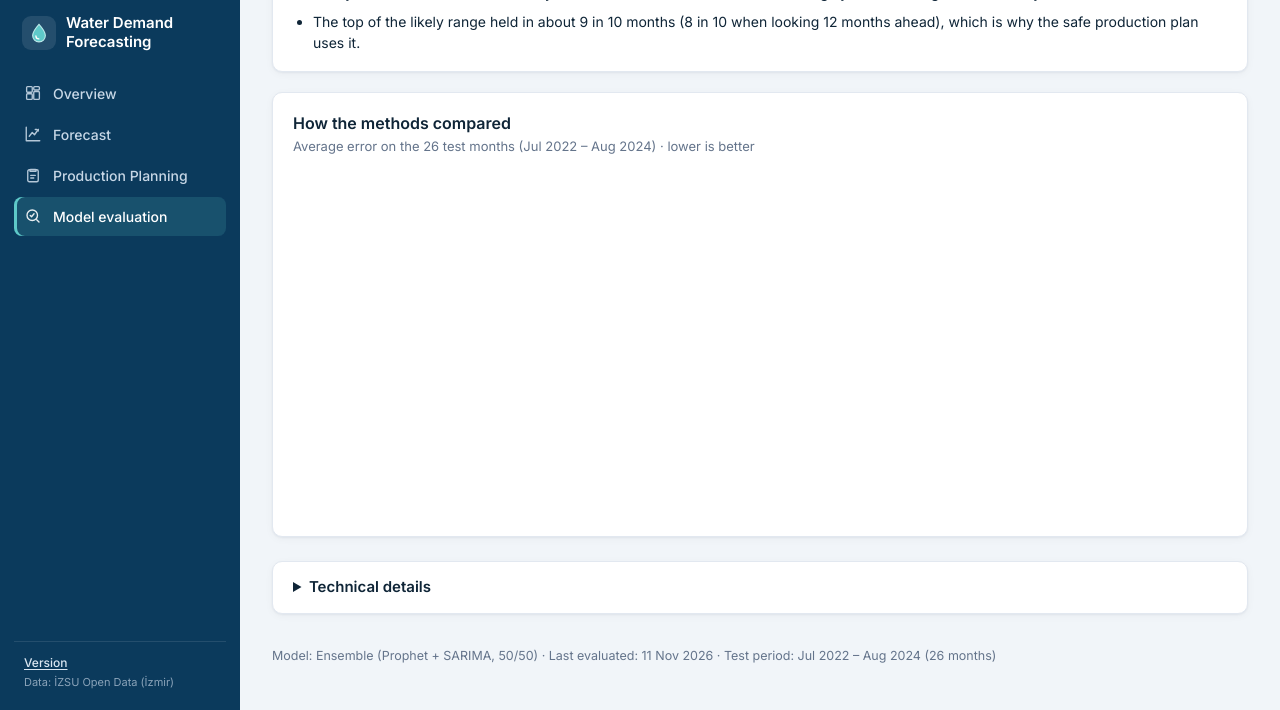
Test: "Error by months ahead" shows h1-h12 for exactly 5 models, dropping Prophet (CV-tuned)
The width and height of the screenshot is (1280, 710).
(page scrolled)
Click the heading "Technical details": point(370, 586) [272,561,1248,614]
(page scrolled)
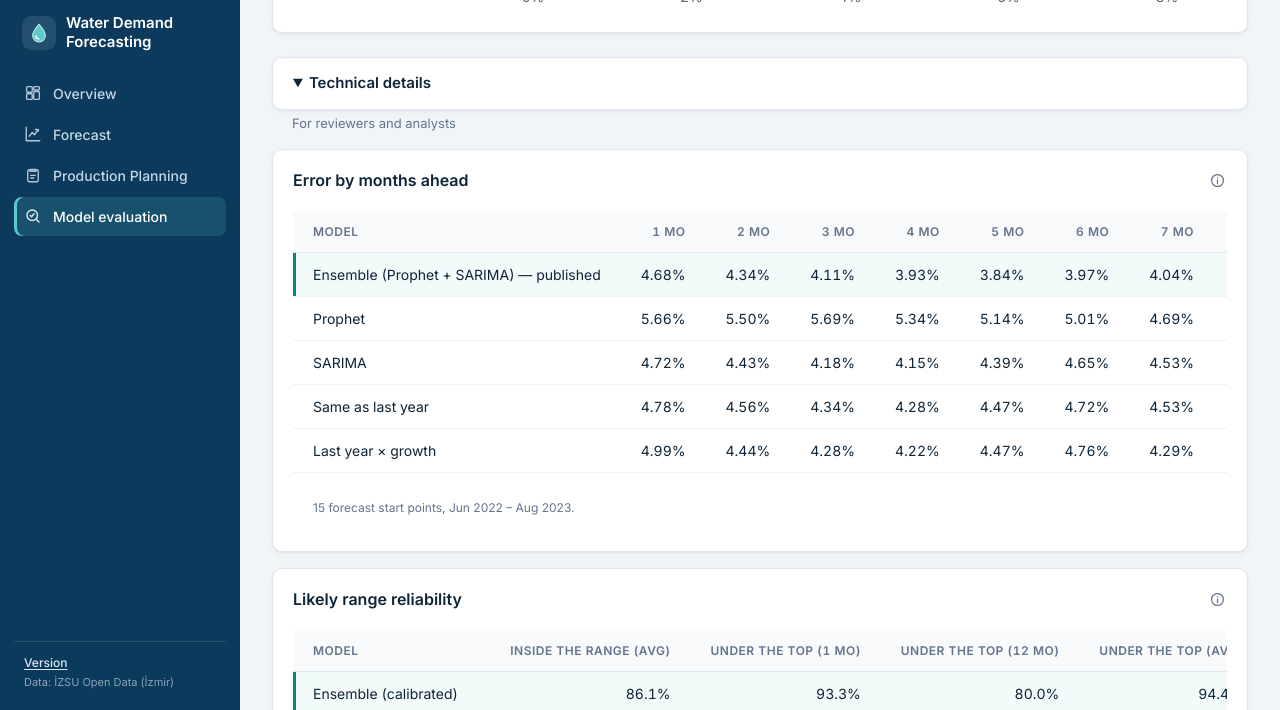
Expected: the text "Ensemble (Prophet + SARIMA) — published" is shown, [293,252,621,296]
Expected: the text "Prophet" is shown, [293,296,621,340]
Expected: the text "SARIMA" is shown, [293,340,621,384]
